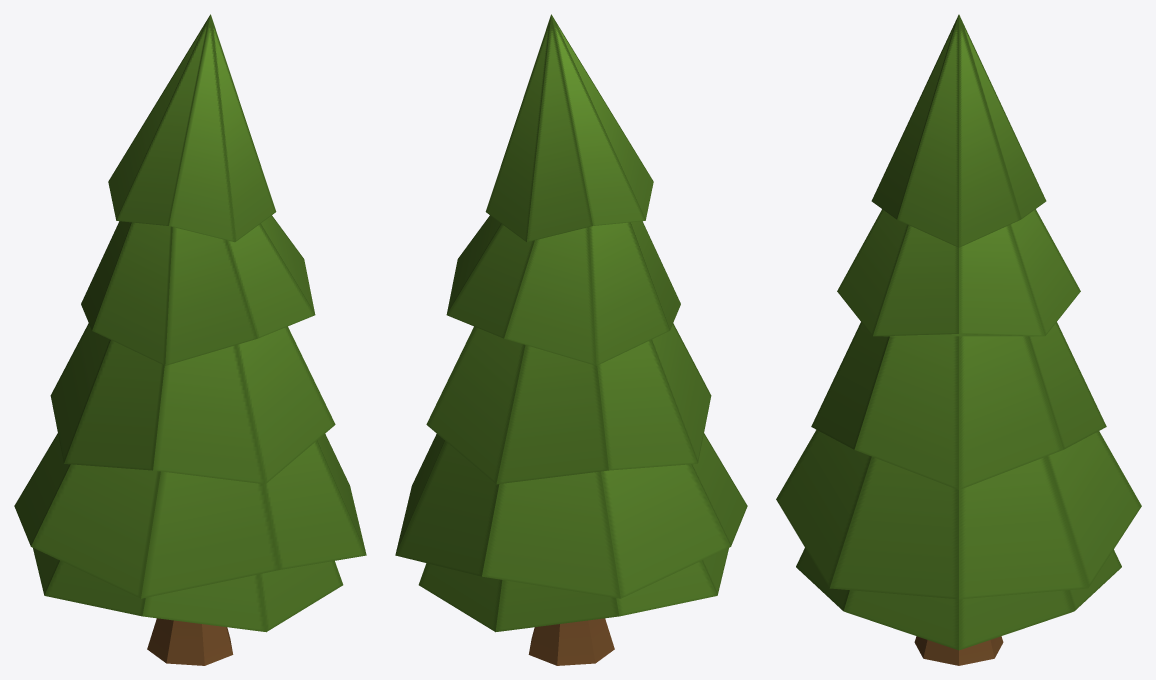
The model's file is Tree_2.5cb88b6a.gltf.
3 renders of one model, left to right at view 1: azimuth 30°, elevation 25°; view 2: azimuth 150°, elevation 25°; view 3: azimuth 270°, elevation 25°, orthographic. The views are drawn at different scales.
Parts seen in each view (by area): view 1: Object_2; view 2: Object_2; view 3: Object_2.
Boxes of the visible parts, left/top/right/bottom form: Object_2: left=14, top=14, right=366, bottom=665; Object_2: left=395, top=14, right=747, bottom=665; Object_2: left=776, top=14, right=1141, bottom=665.
Size of the model in its own units: 12.66 by 23.86 by 12.32.
Materials: 1 (1 with a texture image).
